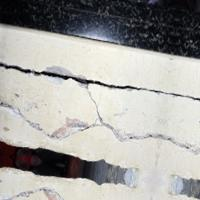crack: (3, 43, 194, 193)
